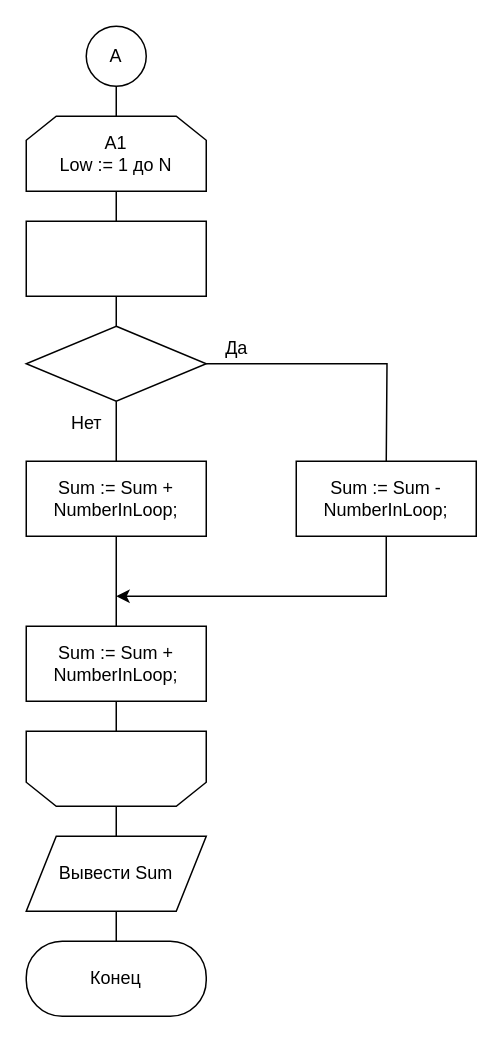
Image size: 503x1043. Some labels were removed from this diagram. Each missing label, with the centre of its shape:
"Low A1" belongs at point 115,768.
"Low Mod 2 <> 0" belongs at point 115,363.
"NumberInLoop := NumberInLoop * 2;" belongs at point 115,258.
